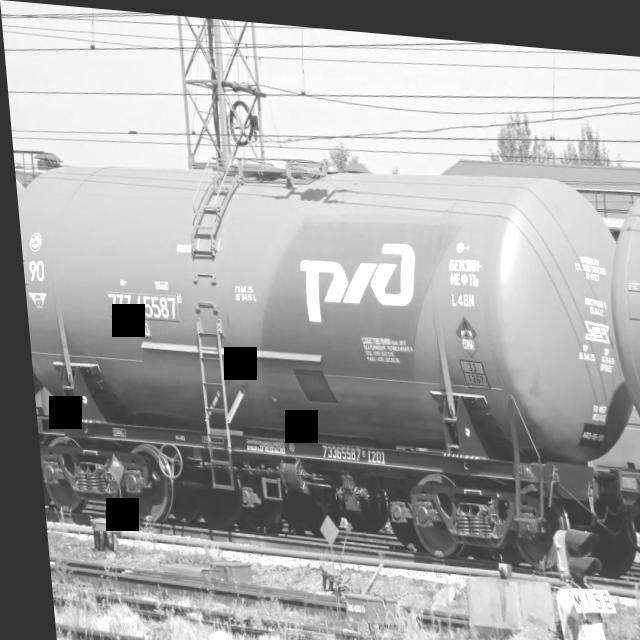tank: (8, 118, 632, 575), (582, 144, 640, 580), (10, 146, 53, 511)
